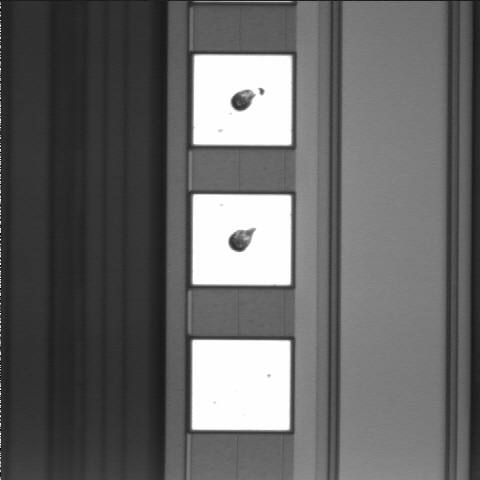pad: (193, 194, 291, 285), (193, 55, 292, 145), (192, 340, 290, 430)
